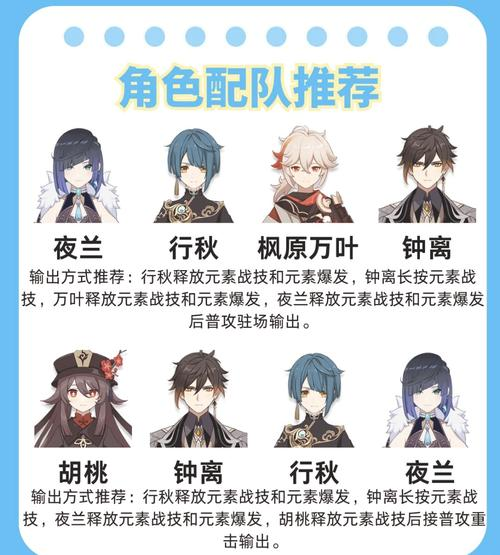夜兰: (34, 123, 136, 229), (379, 359, 473, 451)
